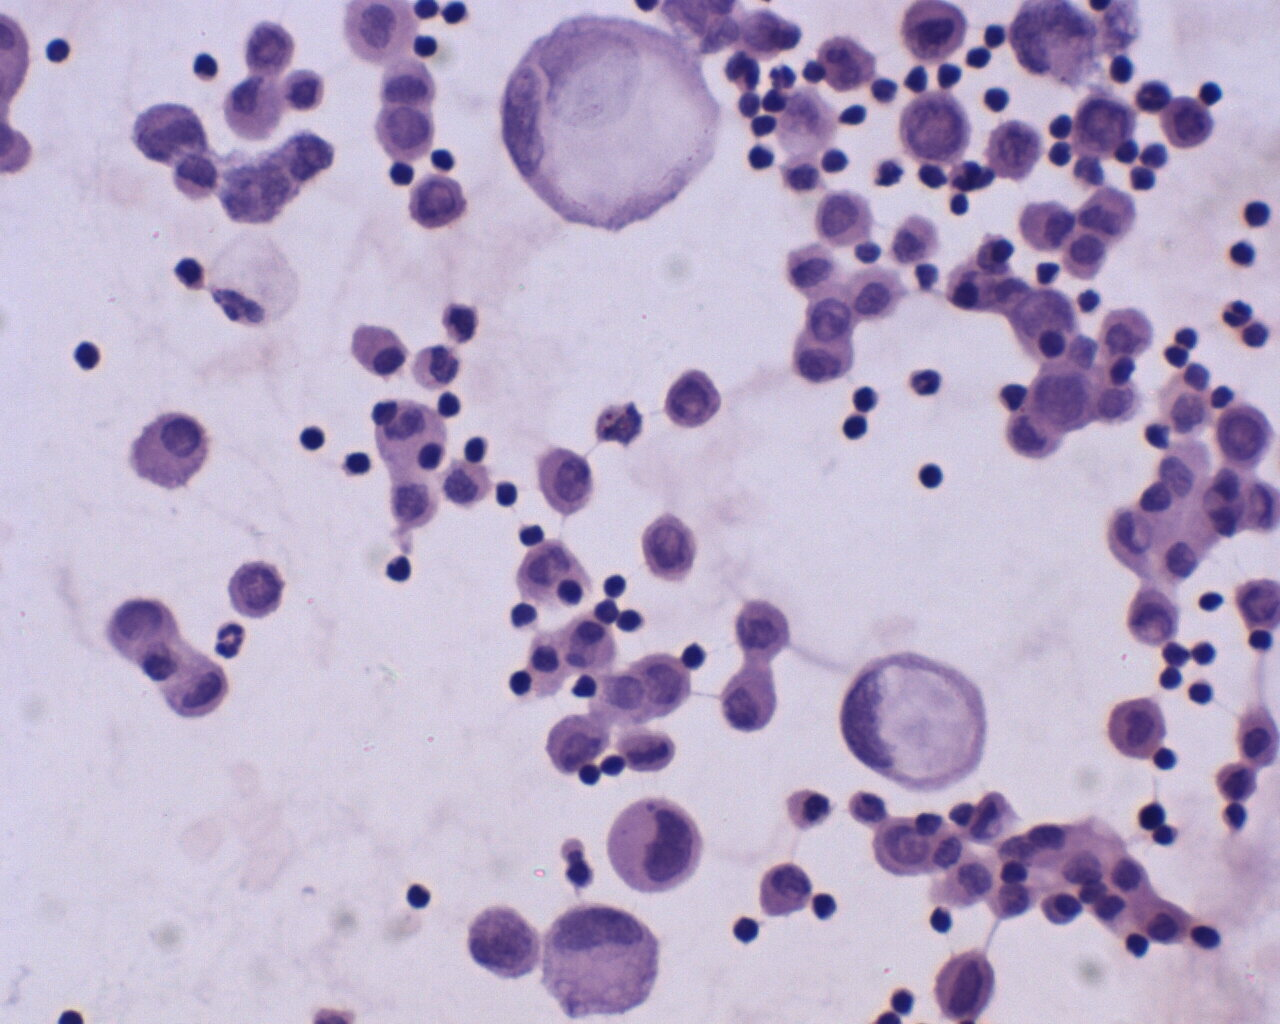ab: (504, 11, 725, 230), (841, 648, 988, 792), (536, 904, 659, 1014), (932, 950, 1005, 1024), (898, 89, 969, 160), (532, 441, 595, 520), (1068, 88, 1139, 156), (639, 511, 699, 587), (1214, 403, 1278, 469), (408, 172, 472, 236), (1159, 90, 1221, 156), (664, 367, 724, 430)
histo: (606, 791, 703, 895)
lymph: (68, 339, 111, 378), (913, 453, 950, 492), (729, 909, 766, 948), (457, 429, 496, 465), (39, 33, 77, 69), (403, 878, 438, 912), (294, 422, 329, 455), (385, 553, 417, 586), (1190, 636, 1221, 670), (1150, 747, 1176, 773)
meso: (123, 410, 214, 489), (350, 323, 409, 380)
neutro: (209, 616, 251, 664), (1217, 294, 1260, 331)
